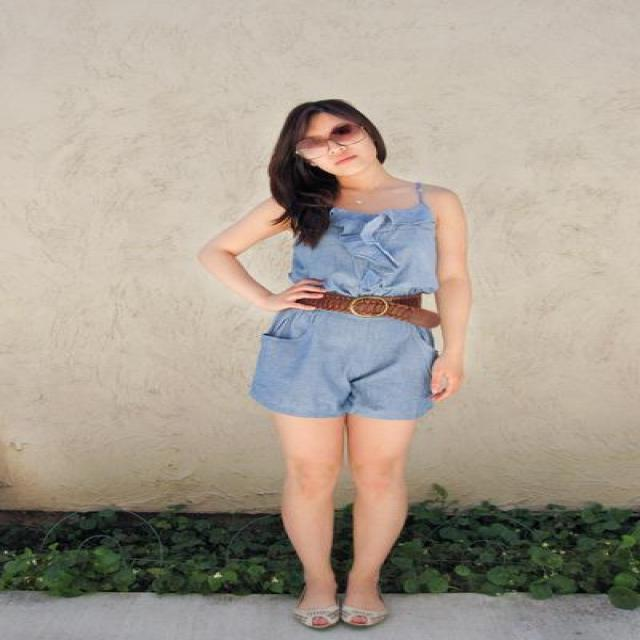dress: (249, 207, 436, 419)
shoe: (307, 606, 363, 630)
